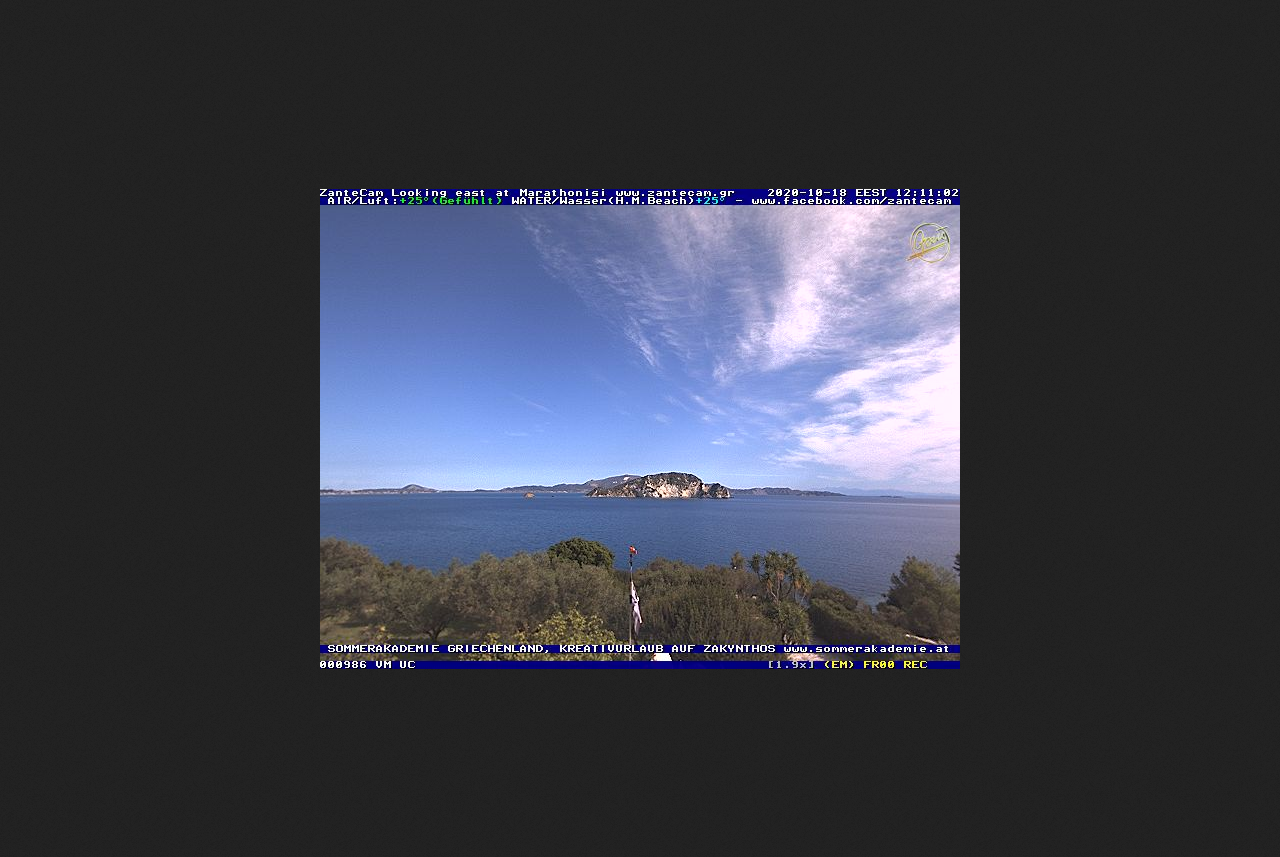no: (628, 576, 647, 636)
